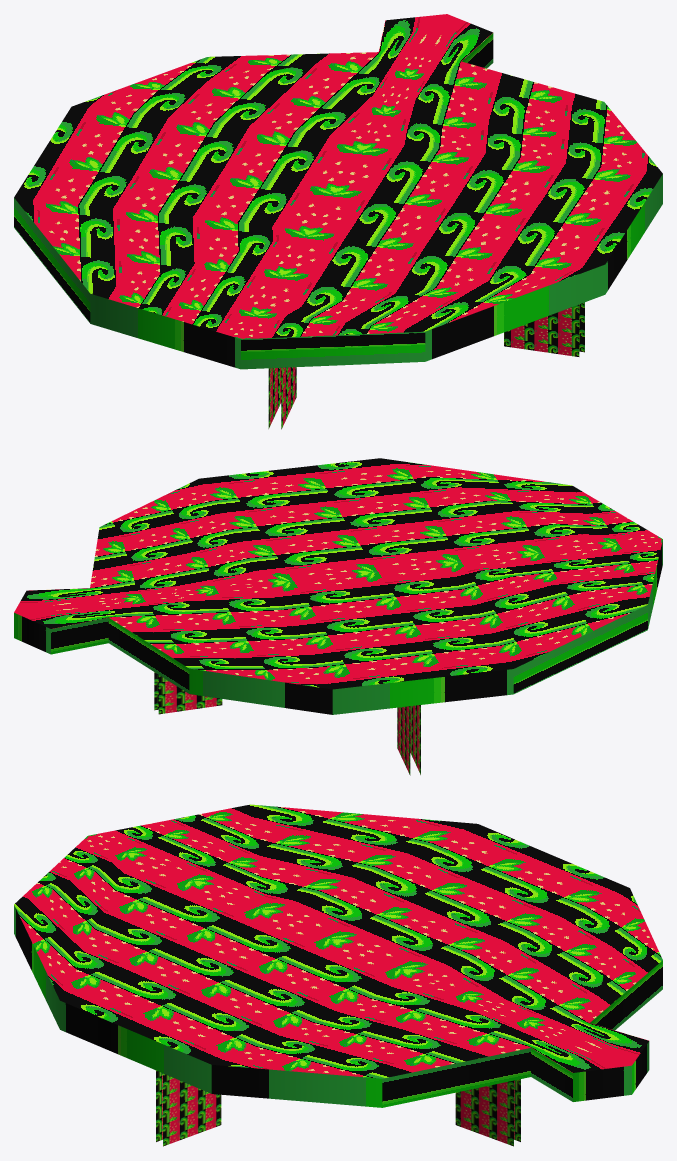
The picture shows the model from 3 angles, top to bottom: view 1: azimuth 30°, elevation 25°; view 2: azimuth 150°, elevation 25°; view 3: azimuth 270°, elevation 25°; orthographic projection. The views are drawn at different scales.
Visible parts, largest first — view 1: 3700kg_it_ta1; view 2: 3700kg_it_ta1; view 3: 3700kg_it_ta1.
Part boxes in pixels (bbox=[...]): 3700kg_it_ta1: bbox=[14, 14, 662, 429]; 3700kg_it_ta1: bbox=[14, 458, 662, 775]; 3700kg_it_ta1: bbox=[14, 804, 662, 1146].
Bounding box in the file's own units: 1.98 × 0.4397 × 1.98.
1 material, 1 textured.
